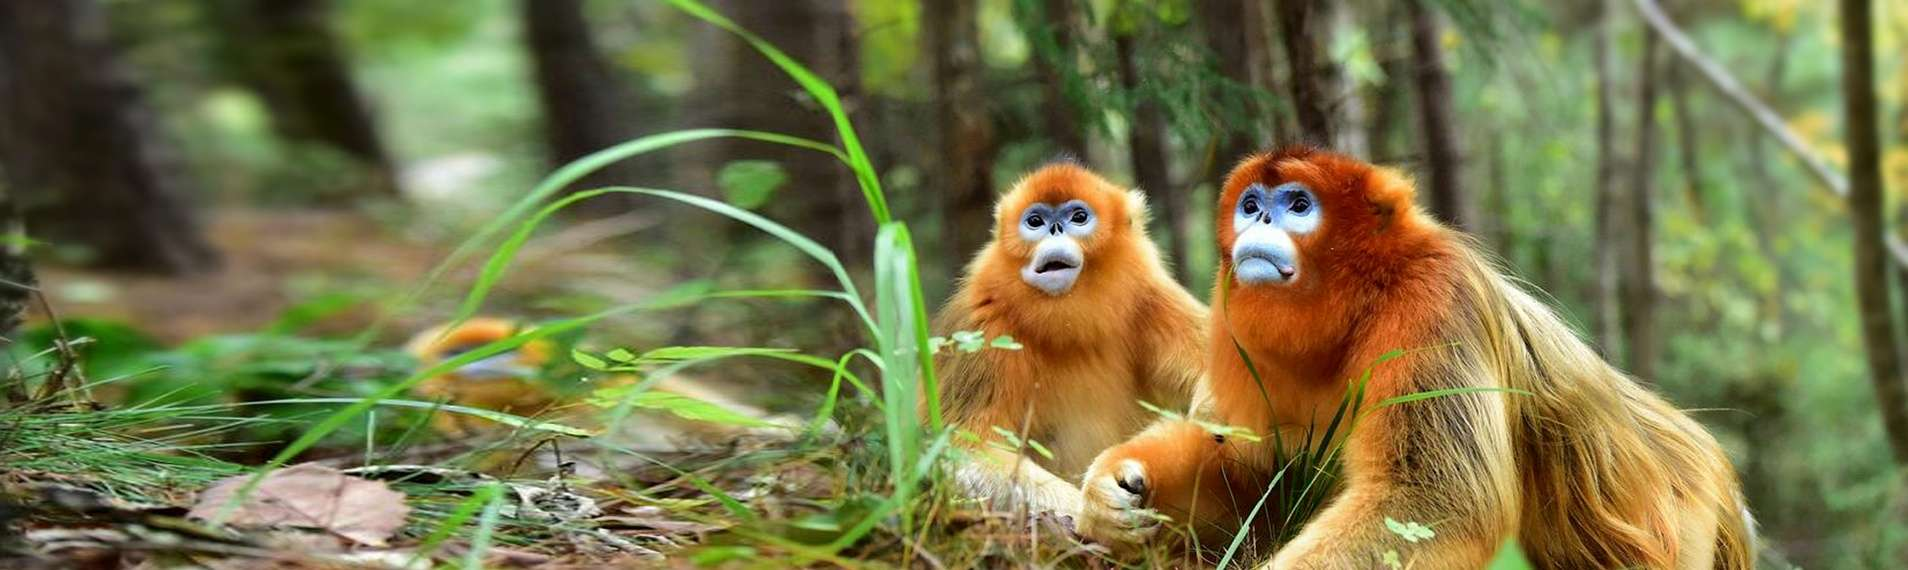GoldenSnub-Nosed: (1214, 156, 1743, 570), (936, 166, 1202, 492)
